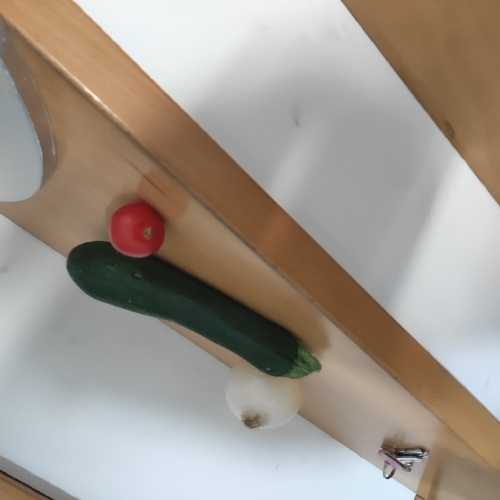cipolla: (229, 369, 300, 431)
pomodoro: (107, 203, 168, 258)
zucchine: (76, 249, 318, 382)
